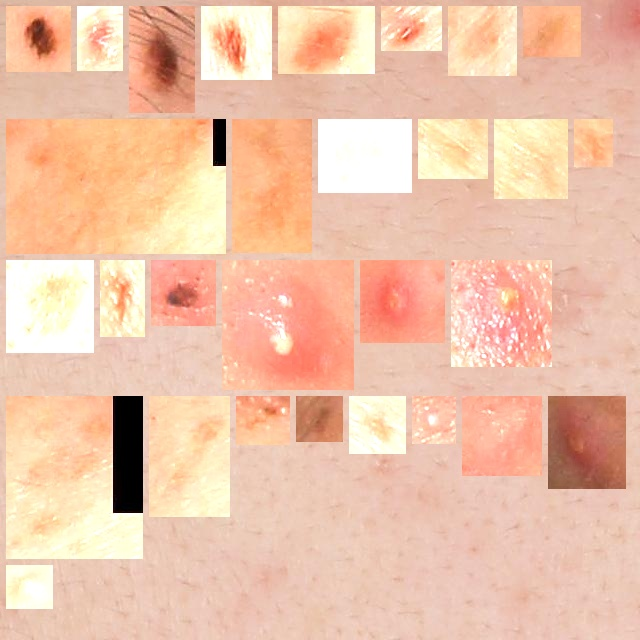hypertrophic_scar: (470, 404, 534, 468)
melasma: (14, 127, 218, 246), (14, 404, 135, 551), (240, 127, 304, 245), (157, 404, 222, 509), (14, 268, 86, 345), (326, 127, 404, 185), (286, 14, 367, 66), (502, 127, 560, 191), (456, 14, 509, 68), (426, 127, 480, 171), (357, 404, 398, 446), (531, 14, 573, 49), (244, 404, 282, 437), (582, 127, 605, 159)
nevus: (137, 14, 187, 105), (209, 14, 264, 72), (14, 14, 63, 64), (159, 268, 208, 318), (108, 268, 137, 329), (85, 14, 115, 63), (389, 14, 434, 43), (304, 404, 335, 434)
pustule: (230, 268, 346, 382), (459, 268, 544, 359), (556, 404, 618, 481), (368, 268, 437, 335), (420, 404, 448, 436), (14, 573, 45, 601)
